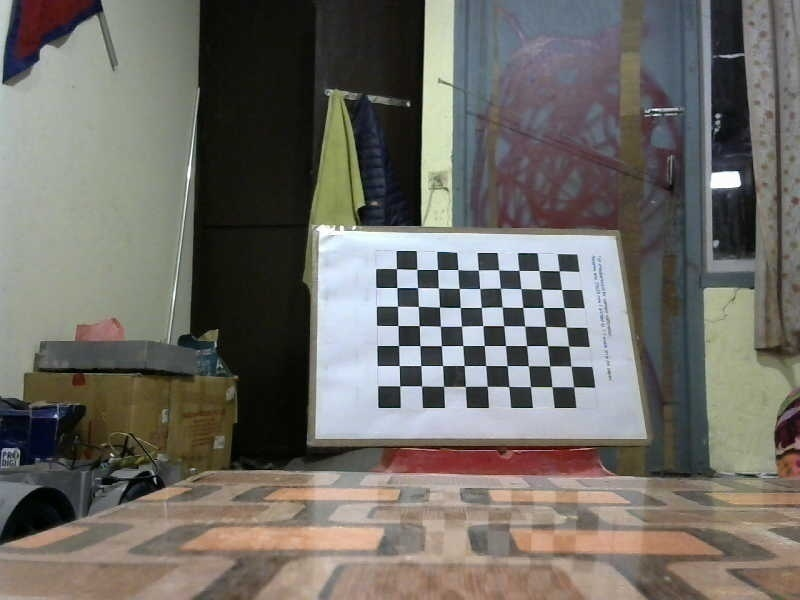block: (311, 227, 641, 440)
